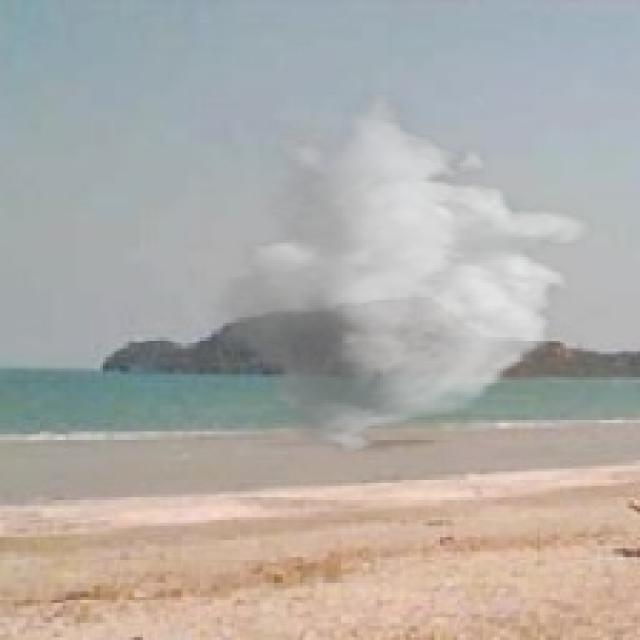smoke: (200, 92, 594, 457)
